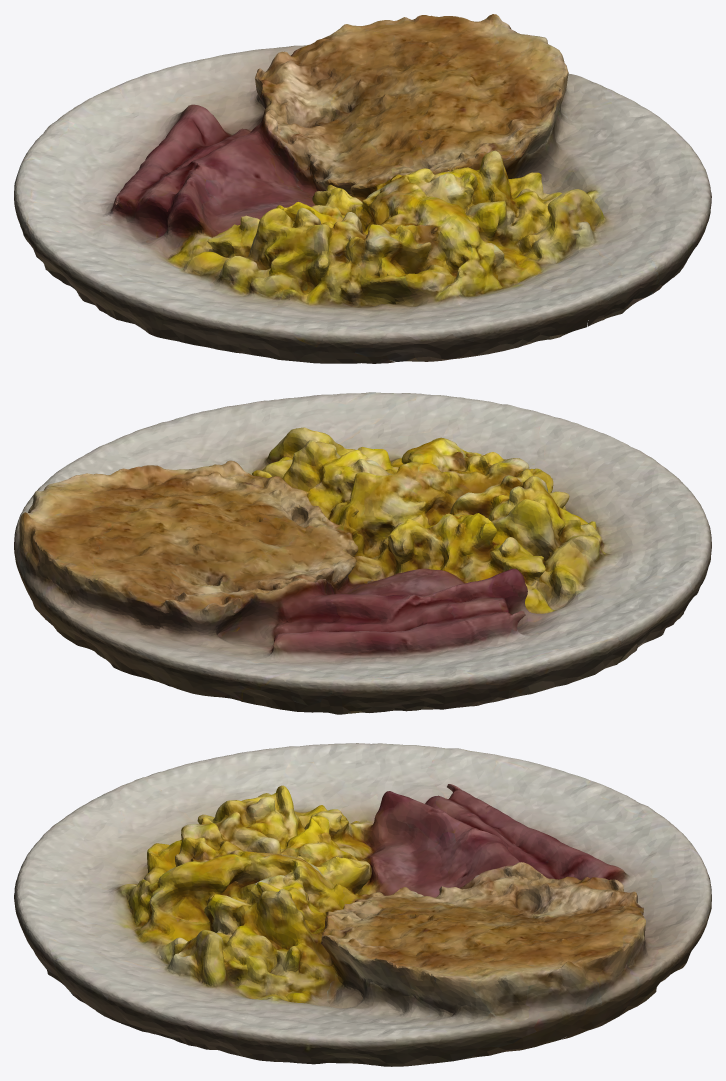
The model's file is breakfast.glb.
3 views of the same model, one above another, from view 1: azimuth 30°, elevation 25°; view 2: azimuth 150°, elevation 25°; view 3: azimuth 270°, elevation 25° (orthographic).
Visible parts, largest first — view 1: Mesh_0; view 2: Mesh_0; view 3: Mesh_0.
Part boxes in pixels (bbox=[...]): Mesh_0: bbox=[14, 14, 711, 363]; Mesh_0: bbox=[14, 392, 711, 714]; Mesh_0: bbox=[14, 743, 711, 1066].
Size of the model in its own units: 0.2669 by 0.0336 by 0.2667.
Materials: 1 (1 with a texture image).
